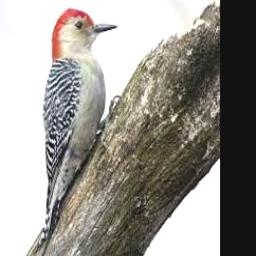Woodpecker: (29, 8, 117, 256)
